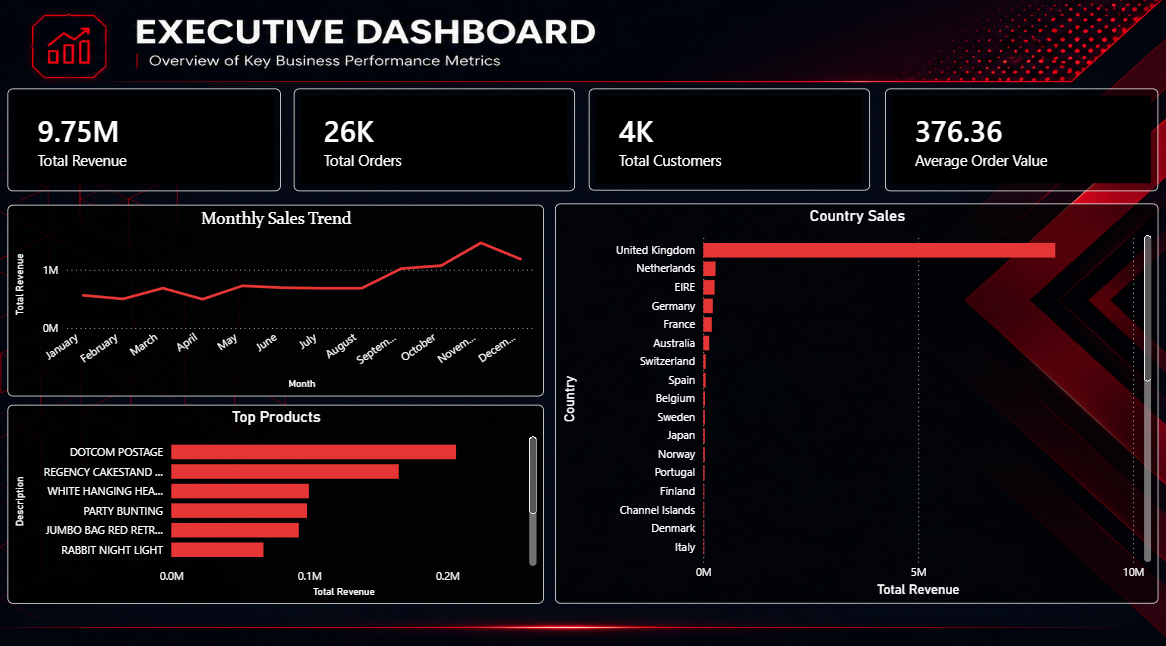

The page's visual inventory and layout, read from the dashboard file:
{"tool":"powerbi","page":{"name":"Executive DAshboard","canvas":[1280,720],"ordinal":1},"visuals":[{"type":"cardVisual","fields":{"Data":["ecommerce orders.Total Revenue"]},"box":[8.8,101.2,300,112.5],"z":0},{"type":"cardVisual","fields":{"Data":["ecommerce orders.Average Order Value"]},"box":[971.2,101.2,300,112.5],"z":1000},{"type":"cardVisual","fields":{"Data":["ecommerce orders.Total Orders"]},"box":[322.5,101.2,308.8,112.5],"z":2000},{"type":"cardVisual","fields":{"Data":["ecommerce orders.Total Customers"]},"box":[646.8,101.3,308.8,112.3],"z":3000},{"type":"lineChart","title":"Monthly Sales Trend","fields":{"Category":["ecommerce orders.InvoiceDate.Variation.Date Hierarchy.Month"],"Y":["ecommerce orders.Total Revenue"]},"box":[8.8,228.8,588.8,210],"z":4000},{"type":"clusteredBarChart","title":"Top Products","fields":{"Category":["ecommerce orders.Description"],"Y":["ecommerce orders.Total Revenue"]},"box":[8.8,448.8,588.8,218.8],"z":5000},{"type":"clusteredBarChart","title":"Country Sales","fields":{"Category":["ecommerce orders.Country"],"Y":["ecommerce orders.Total Revenue"]},"box":[609,228.2,662.7,439.4],"z":6000}]}

Visuals, with their boxes in screenshot pixels (x1, y1, x2, y2), scaled from the page's 1280x720 canvas onto the 1166x646 screenshot:
cardVisual - ecommerce orders.Total Revenue: select_region(8, 91, 281, 192)
cardVisual - ecommerce orders.Average Order Value: select_region(885, 91, 1158, 192)
cardVisual - ecommerce orders.Total Orders: select_region(294, 91, 575, 192)
cardVisual - ecommerce orders.Total Customers: select_region(589, 91, 870, 192)
"Monthly Sales Trend" lineChart: select_region(8, 205, 544, 394)
"Top Products" clusteredBarChart: select_region(8, 403, 544, 599)
"Country Sales" clusteredBarChart: select_region(555, 205, 1158, 599)
